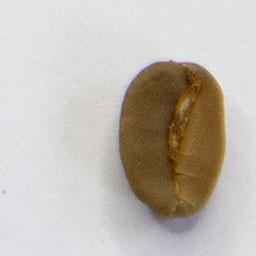defect: (116, 57, 229, 222)
